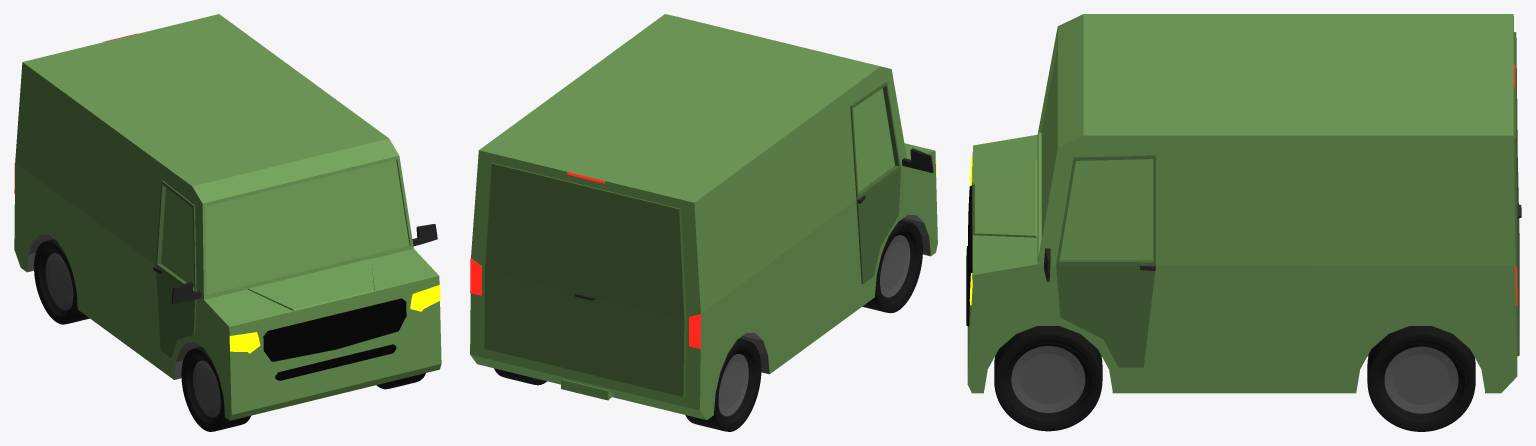
Rendered from van_low_poly.glb.
3 views of the same model, side by side, from view 1: azimuth 30°, elevation 25°; view 2: azimuth 150°, elevation 25°; view 3: azimuth 270°, elevation 25° (orthographic). The views are drawn at different scales.
Parts seen in each view (by area): view 1: camionnette_2, TrafficVan_Body_Tire_FR_7, TrafficVan_Body_Tire_BR_5; view 2: camionnette_2, TrafficVan_Body_Tire_BR_5, TrafficVan_Body_Tire_FR_7; view 3: camionnette_2, TrafficVan_Body_Tire_BL_4, TrafficVan_Body_Tire_FL_6.
Boxes of the visible parts, x1=… form: camionnette_2: x1=14, y1=14, x2=441, y2=420; TrafficVan_Body_Tire_FR_7: x1=181, y1=346, x2=250, y2=431; TrafficVan_Body_Tire_BR_5: x1=34, y1=239, x2=89, y2=324; camionnette_2: x1=470, y1=14, x2=937, y2=419; TrafficVan_Body_Tire_BR_5: x1=685, y1=338, x2=761, y2=431; TrafficVan_Body_Tire_FR_7: x1=862, y1=220, x2=922, y2=313; camionnette_2: x1=966, y1=14, x2=1521, y2=393; TrafficVan_Body_Tire_BL_4: x1=1367, y1=326, x2=1475, y2=431; TrafficVan_Body_Tire_FL_6: x1=994, y1=326, x2=1102, y2=431.
Size of what is drawn, in the model's own units: 2.48 by 2.07 by 3.55.
